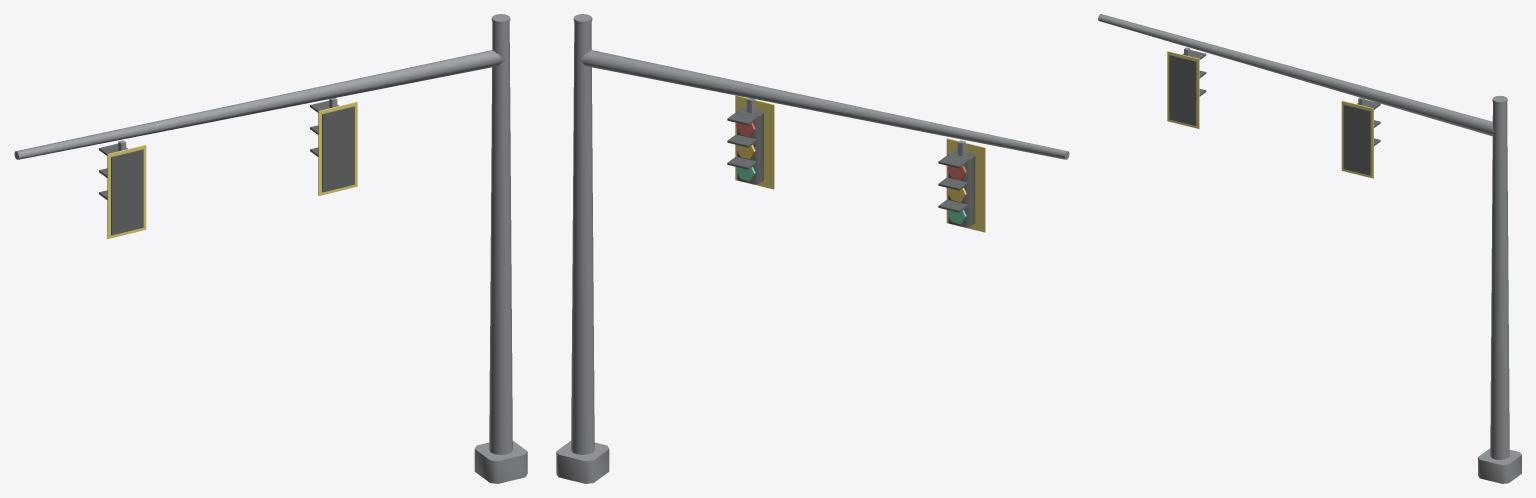
File: signal-2.glb
3 renders of one model, left to right at view 1: azimuth 30°, elevation 25°; view 2: azimuth 150°, elevation 25°; view 3: azimuth 330°, elevation 25°, orthographic. The views are drawn at different scales.
Parts seen in each view (by area): view 1: signal-2; view 2: signal-2; view 3: signal-2.
Boxes of the visible parts, x1,y1,x2,y2 form: signal-2: [14, 14, 527, 483]; signal-2: [556, 14, 1069, 483]; signal-2: [1098, 14, 1521, 483].
Bounding box in the file's own units: 1.16 × 1 × 0.0936.
